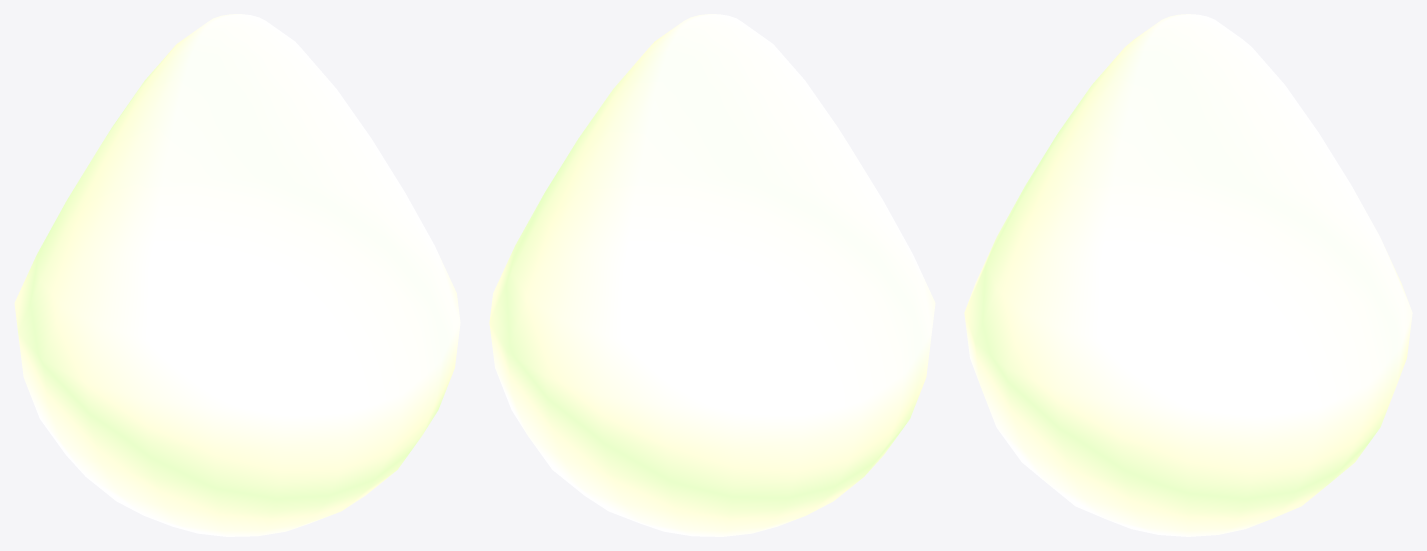
File: acid.glb
3 views of the same model, side by side, from view 1: azimuth 30°, elevation 25°; view 2: azimuth 150°, elevation 25°; view 3: azimuth 270°, elevation 25° (orthographic).
Visible parts, largest first — view 1: acid; view 2: acid; view 3: acid.
Boxes of the visible parts, box(x1,y1,x2,y2) form: acid: box(14, 14, 460, 536); acid: box(489, 14, 935, 536); acid: box(964, 14, 1412, 536).
Bounding box in the file's own units: 2 × 2.45 × 2.
